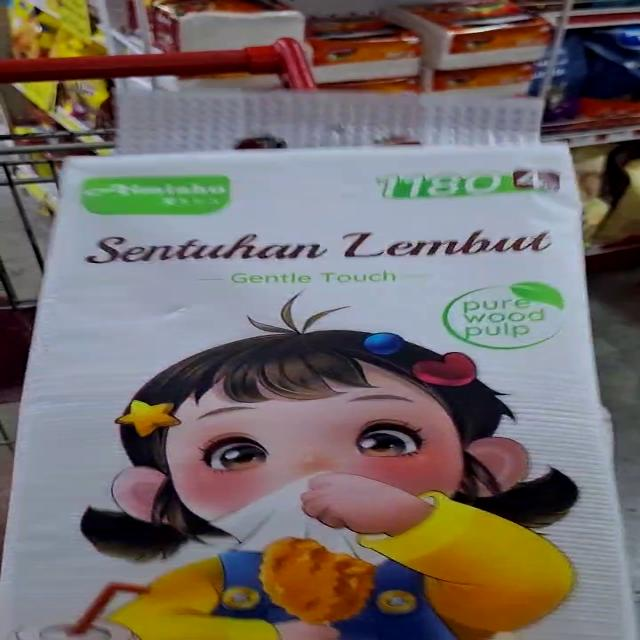Tisu: (0, 367, 640, 640), (27, 77, 603, 376)
